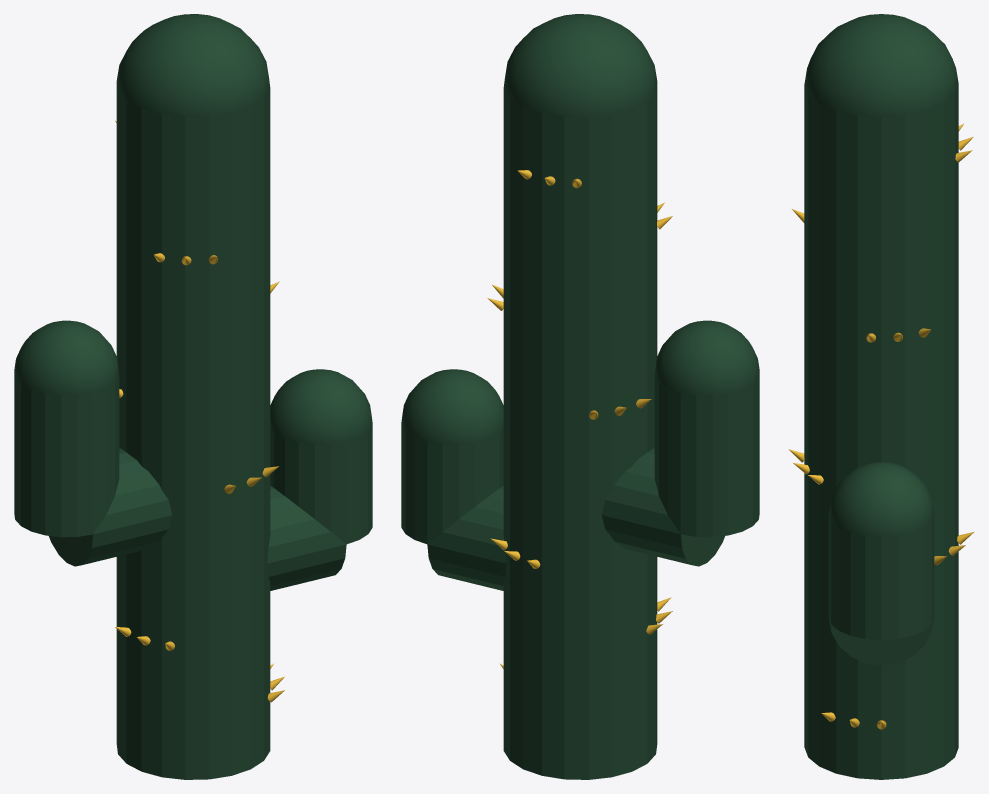
Rendered from best.glb.
3 views of the same model, side by side, from view 1: azimuth 30°, elevation 25°; view 2: azimuth 150°, elevation 25°; view 3: azimuth 270°, elevation 25° (orthographic).
Visible parts, largest first — view 1: Branch, Spine; view 2: Branch, Spine; view 3: Branch, Spine.
Boxes of the visible parts, x1=… form: Branch: x1=14, y1=14, x2=372, y2=779; Spine: x1=115, y1=120, x2=284, y2=702; Branch: x1=401, y1=14, x2=759, y2=779; Spine: x1=487, y1=170, x2=672, y2=668; Branch: x1=804, y1=14, x2=958, y2=779; Spine: x1=788, y1=123, x2=973, y2=729.
Bounding box in the file's own units: 0.98 × 1.97 × 0.4589.
